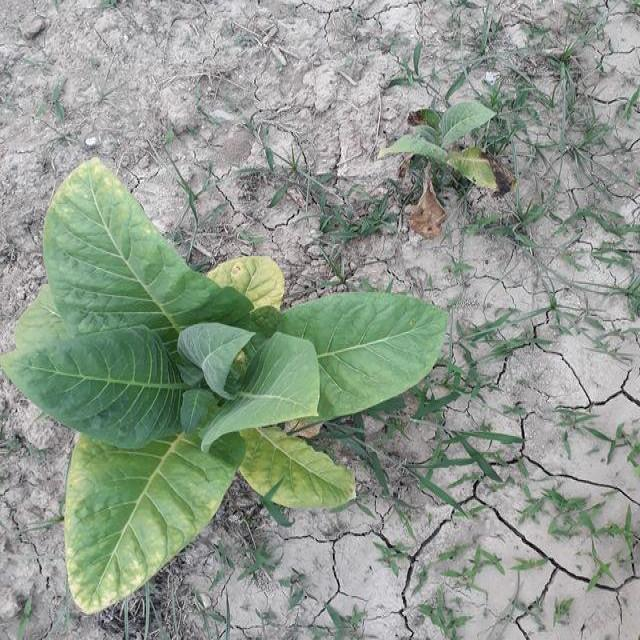crop: (2, 142, 449, 623)
